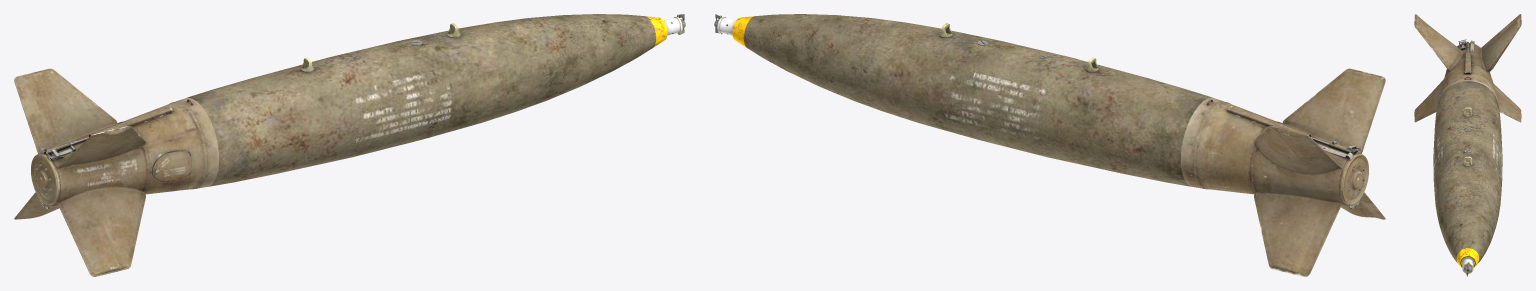
3 views of the same model, side by side, from view 1: azimuth 30°, elevation 25°; view 2: azimuth 150°, elevation 25°; view 3: azimuth 270°, elevation 25° (orthographic). The views are drawn at different scales.
Parts seen in each view (by area): view 1: Object_2; view 2: Object_2; view 3: Object_2.
Boxes of the visible parts, bbox=[...] form: Object_2: bbox=[14, 14, 685, 276]; Object_2: bbox=[714, 14, 1385, 276]; Object_2: bbox=[1414, 14, 1521, 276].
Size of the model in its own units: 3.3 by 0.704 by 0.704.
1 material, 1 textured.
